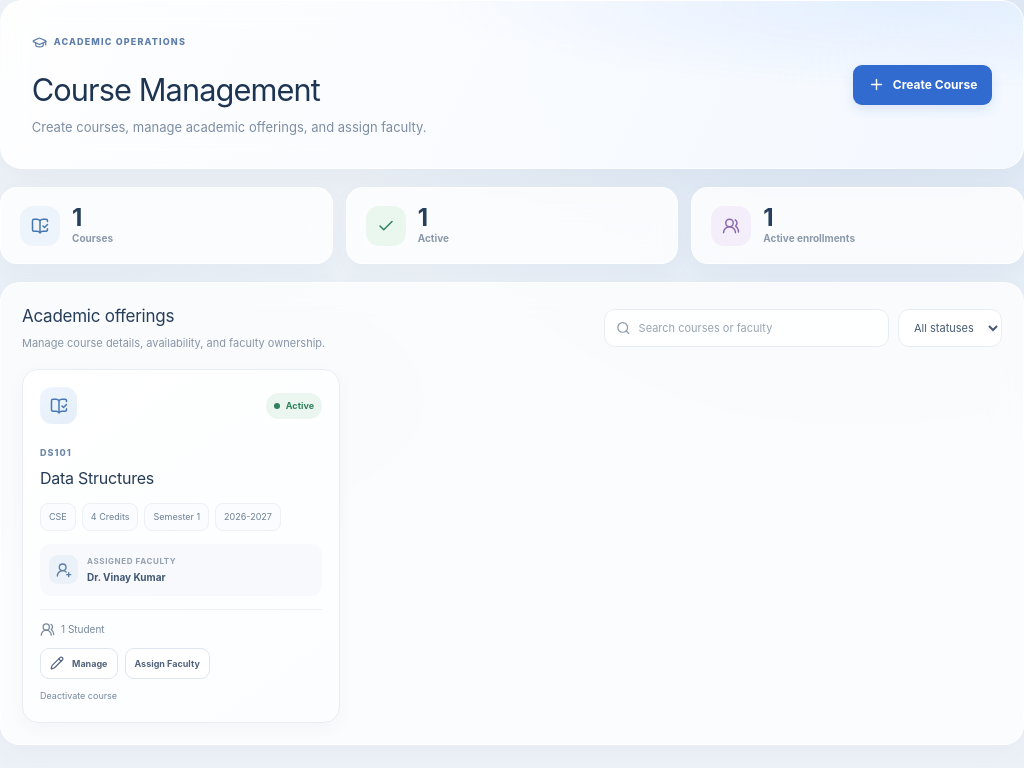
Test case: Admin course management › edits an existing course through Manage
The image size is (1024, 768).
Click the button "Manage" at (79,663), box [40,648,118,679]
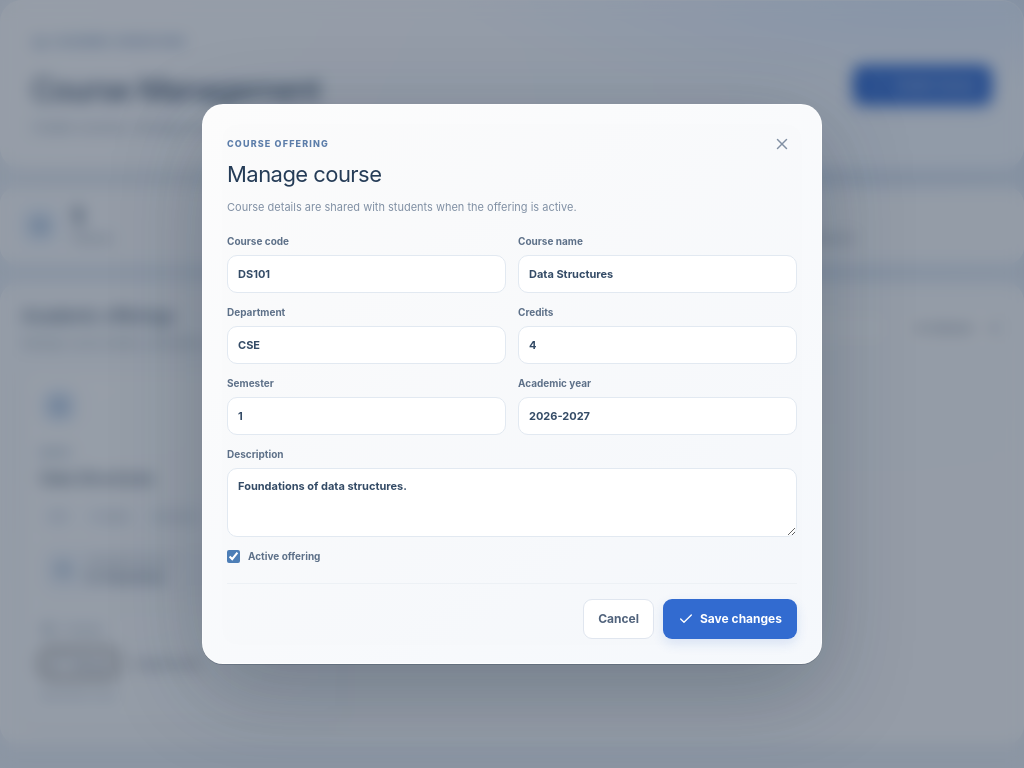
Replace the text in the field labelled "Course name" with "Advanced Data Structures" at (658,274), box [518,255,797,293]
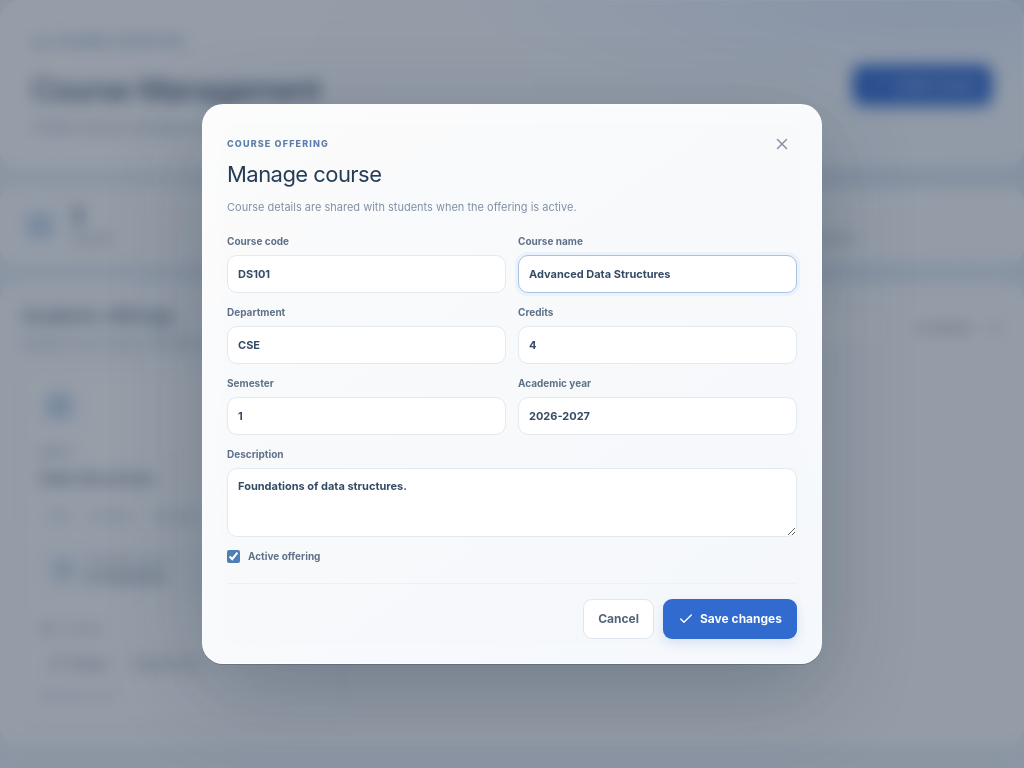
Click the button "Save changes" at (730,619), box [663,599,797,639]
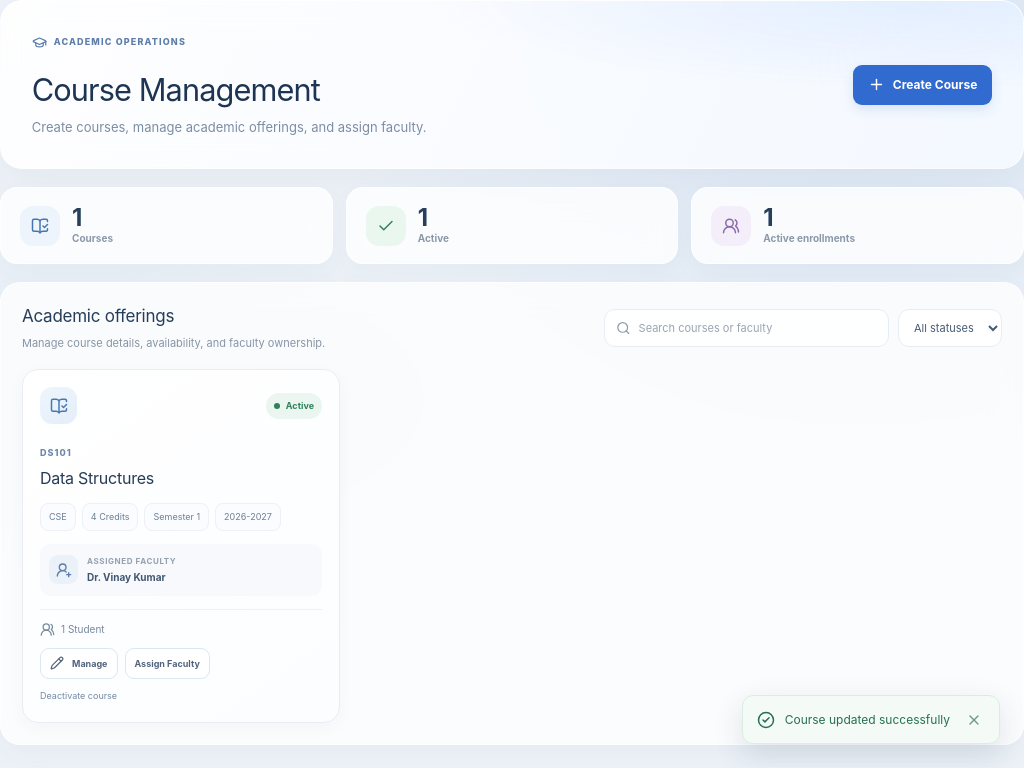
Result: the message reads "Course updated successfully" at [785,712,950,726]
